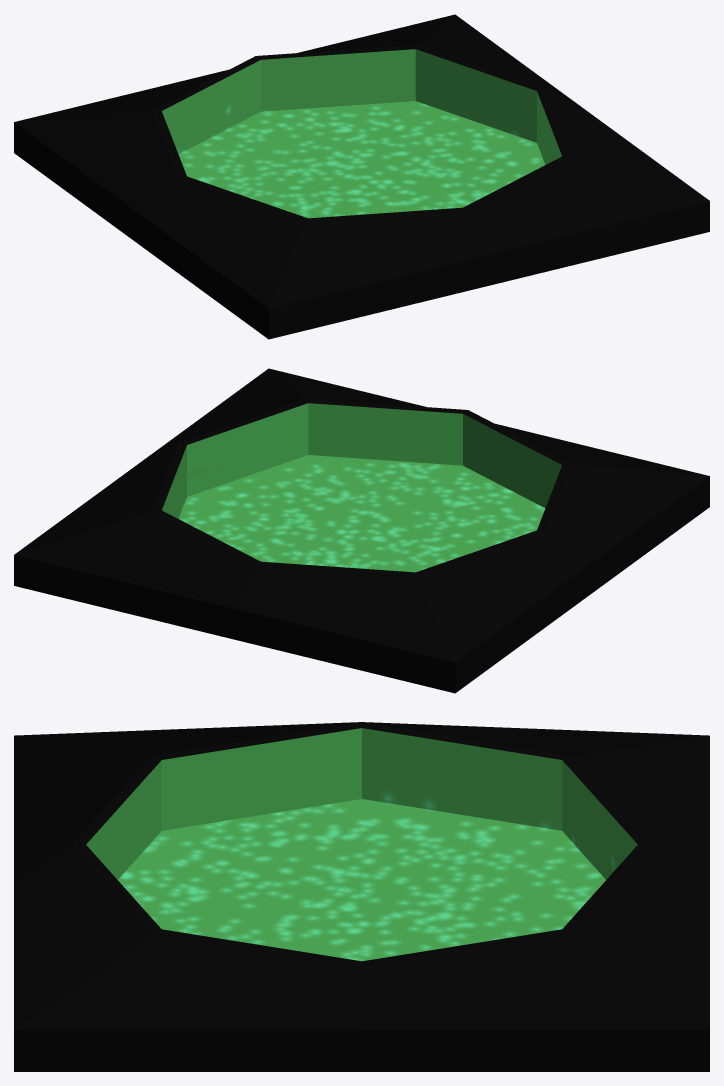
Rendered from arena.obj.
The picture shows the model from 3 angles, top to bottom: view 1: azimuth 30°, elevation 25°; view 2: azimuth 150°, elevation 25°; view 3: azimuth 270°, elevation 25°; orthographic projection. The views are drawn at different scales.
Visible parts, largest first — view 1: Cube; view 2: Cube; view 3: Cube.
Part boxes in pixels (x1,y1,x2,y2): Cube: [14, 14, 709, 339]; Cube: [14, 368, 709, 693]; Cube: [14, 722, 709, 1071].
Size of the model in its own units: 280 by 35.64 by 280.
1 material, 1 textured.
